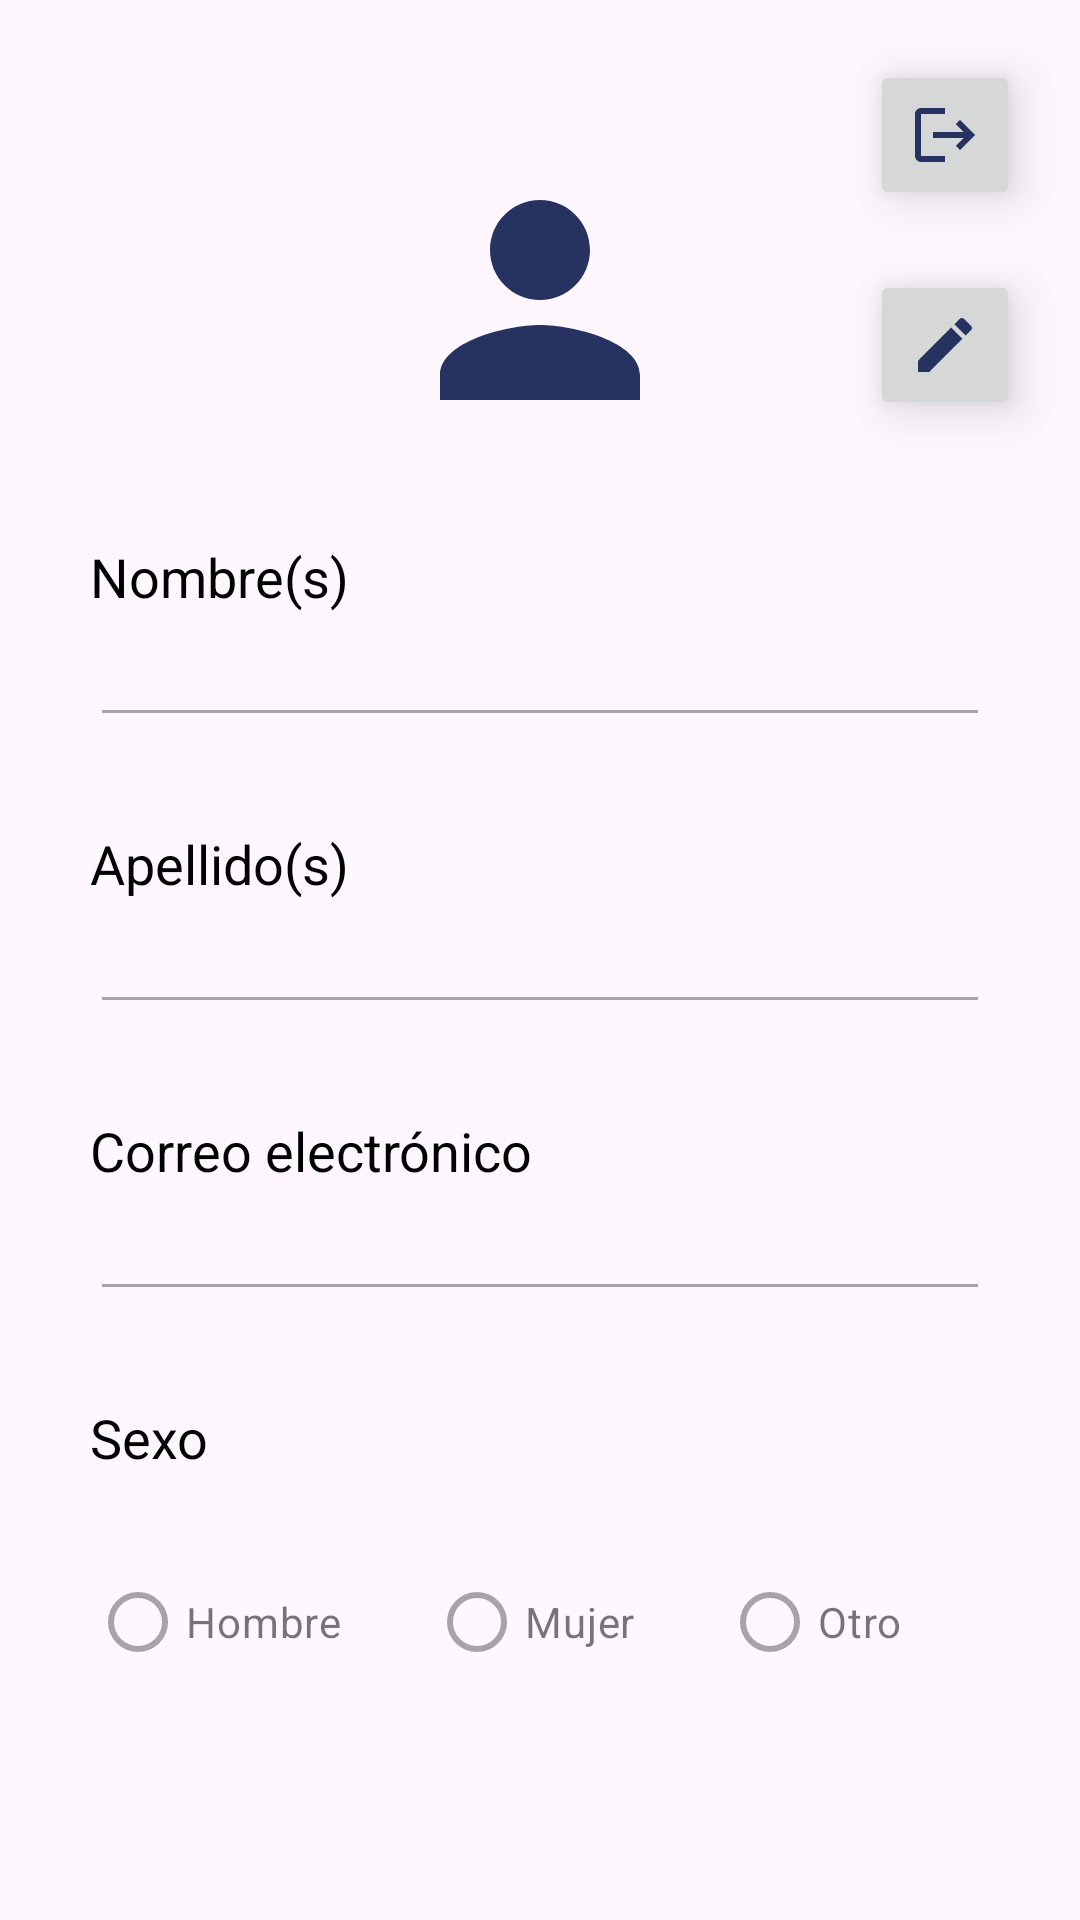

Screen size 1080 × 1920. Icon name, then its center in pixels as (x,y):
edit: (945,345)
person: (540,300)
